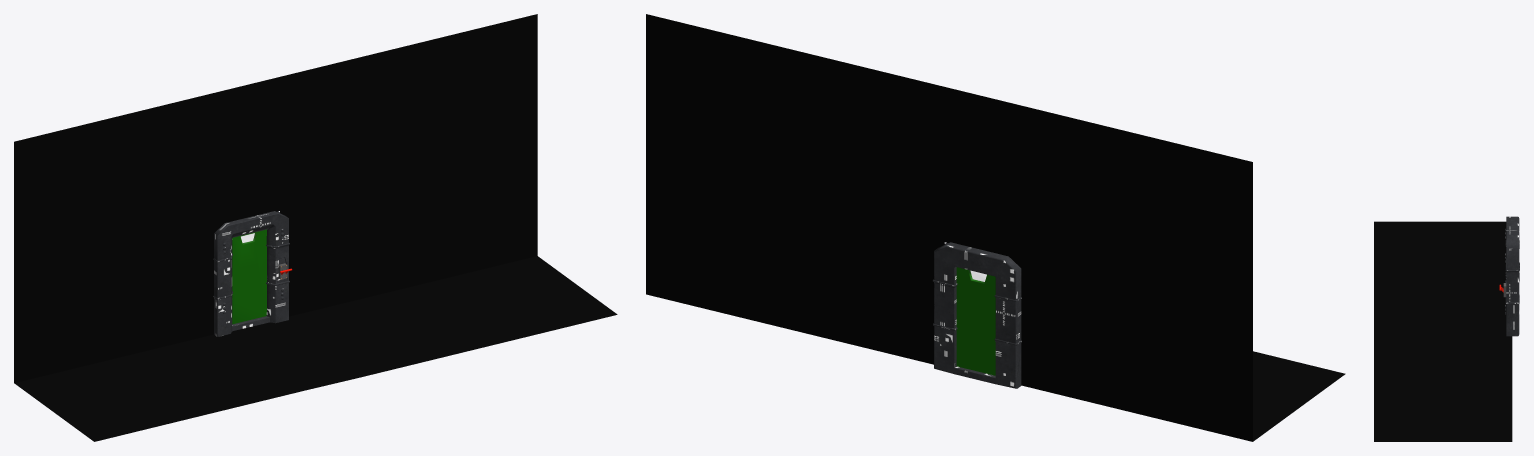
The model's file is Door2BakedReady.glb.
3 views of the same model, side by side, from view 1: azimuth 30°, elevation 25°; view 2: azimuth 150°, elevation 25°; view 3: azimuth 270°, elevation 25° (orthographic). The views are drawn at different scales.
Parts seen in each view (by area): view 1: Plane, polySurface53, Door_LP1; view 2: Plane, polySurface53, Door_LP1; view 3: Plane, polySurface53.
Boxes of the visible parts, x1=… form: Plane: x1=14, y1=14, x2=617, y2=441; polySurface53: x1=213, y1=211, x2=289, y2=336; Door_LP1: x1=232, y1=229, x2=266, y2=324; Plane: x1=646, y1=14, x2=1345, y2=441; polySurface53: x1=932, y1=242, x2=1021, y2=388; Door_LP1: x1=956, y1=267, x2=995, y2=375; Plane: x1=1374, y1=221, x2=1512, y2=441; polySurface53: x1=1505, y1=216, x2=1519, y2=336.
Bounding box in the file's own units: 46.09 × 20.36 × 12.91.
7 materials, 3 textured.
